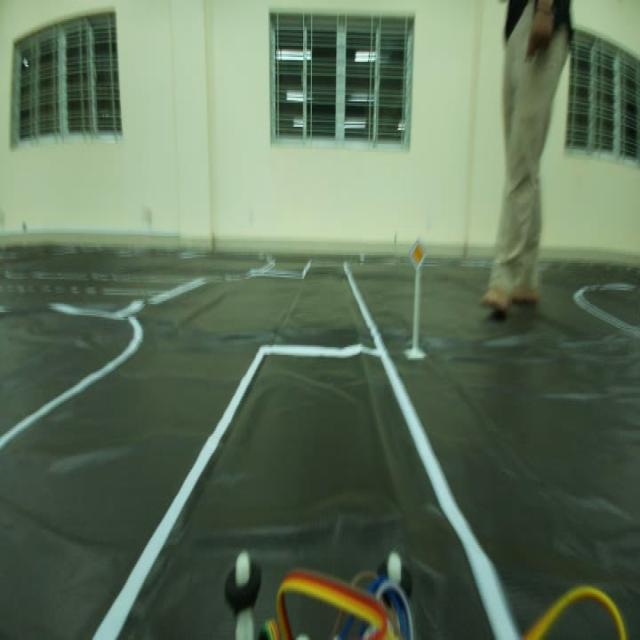priority: (406, 237, 429, 275)
